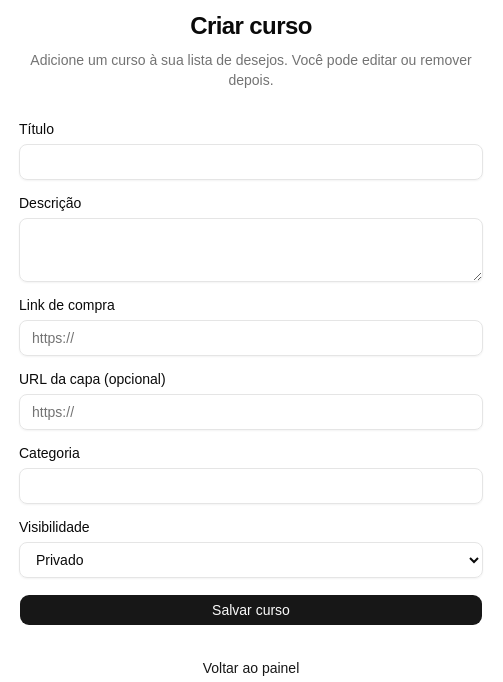
Test: CreateCoursePage › shows validation for invalid purchase link
Type "Meu curso" into the field labelled "Título" at (251, 162), box 19,144 -> 483,180
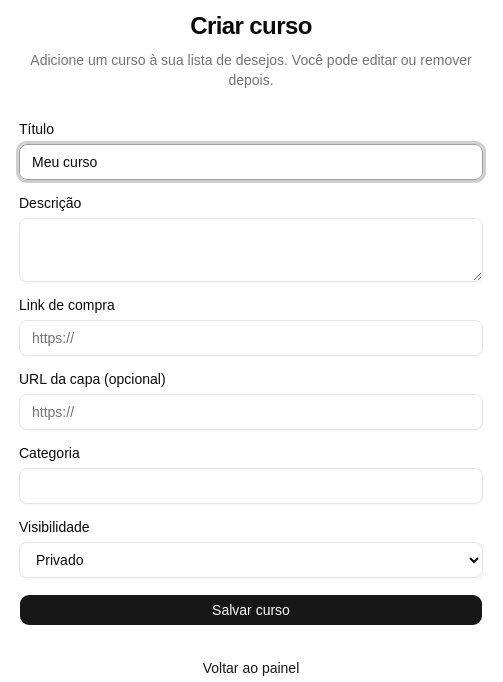
Type "not-a-url" into the field labelled "Link de compra" at (251, 338), box 19,320 -> 483,356
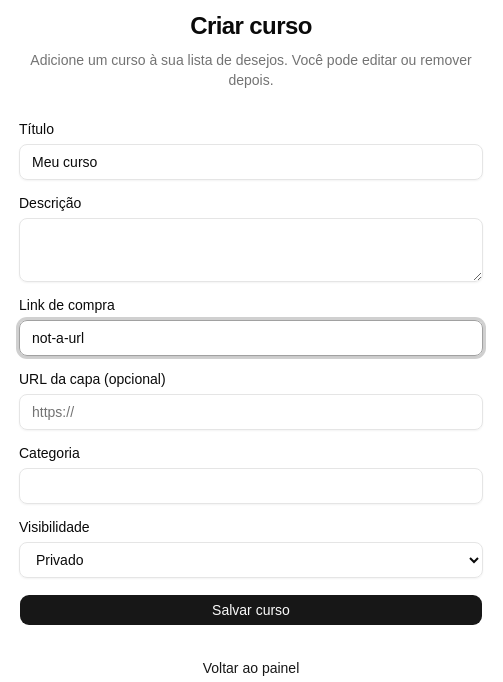
Click the button "Salvar curso" at (251, 610), box 19,594 -> 483,626
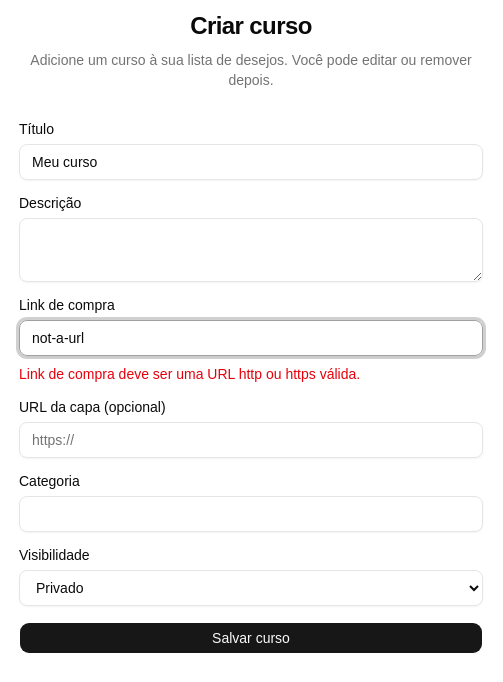
Expected: the text "Link de compra deve ser uma URL http ou https válida." is shown, 19,366 -> 360,382
